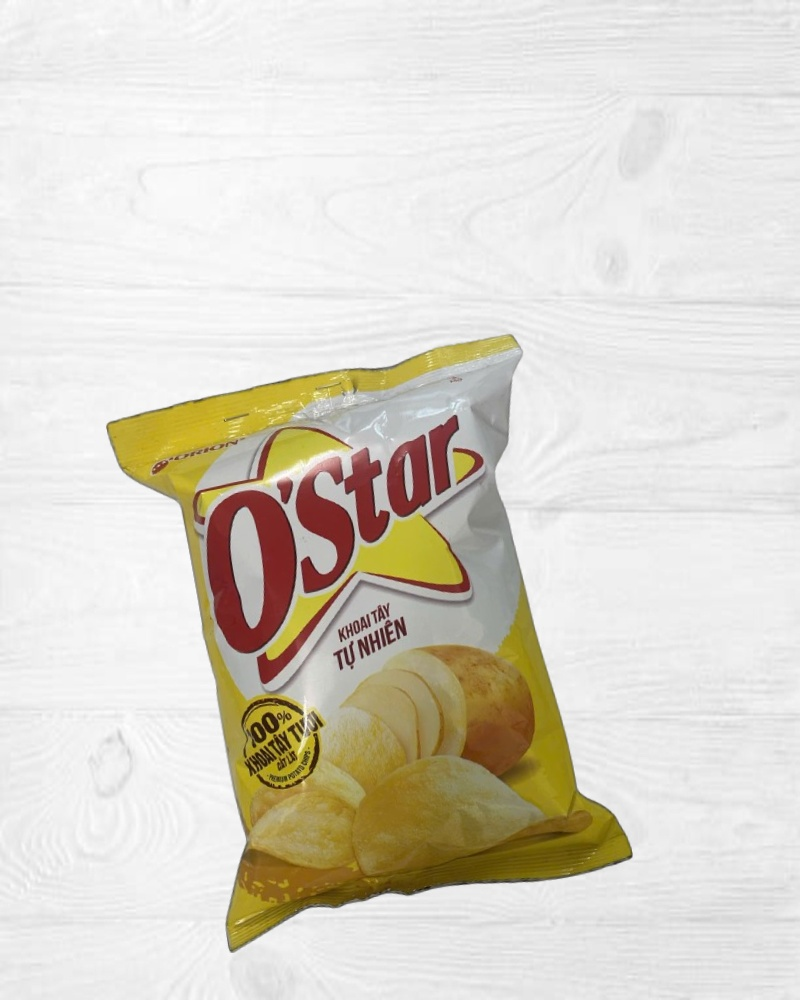O'star: (105, 329, 637, 958)
